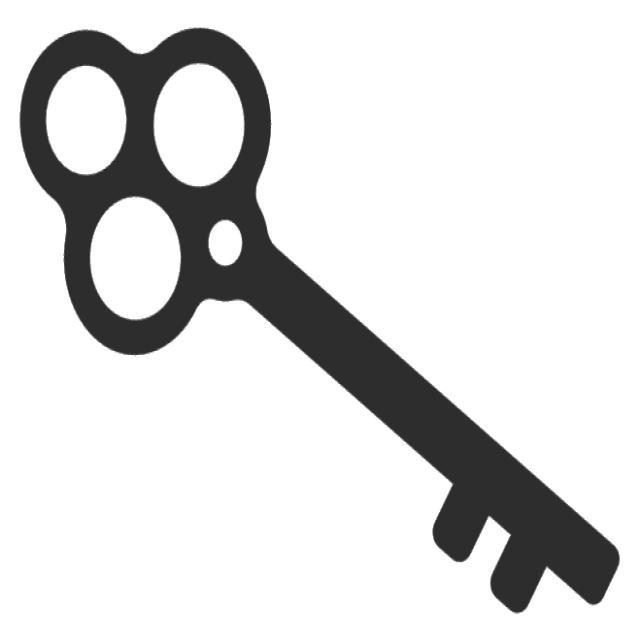key: (9, 14, 630, 625)
